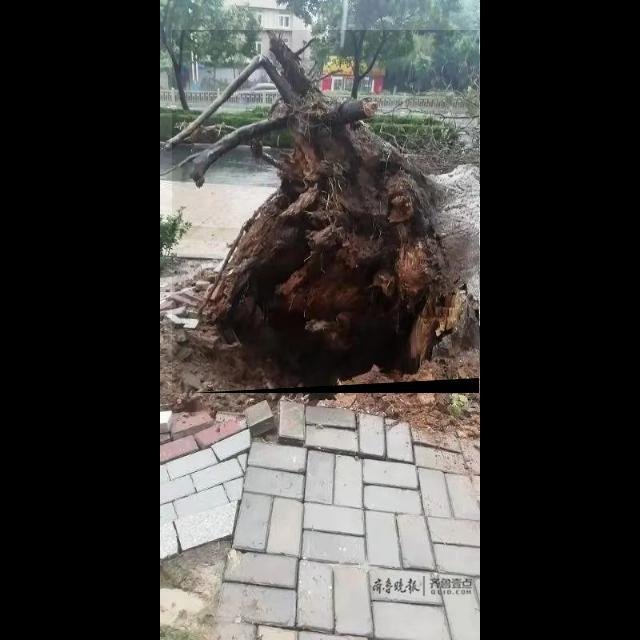fallen_tree: (172, 30, 480, 394)
